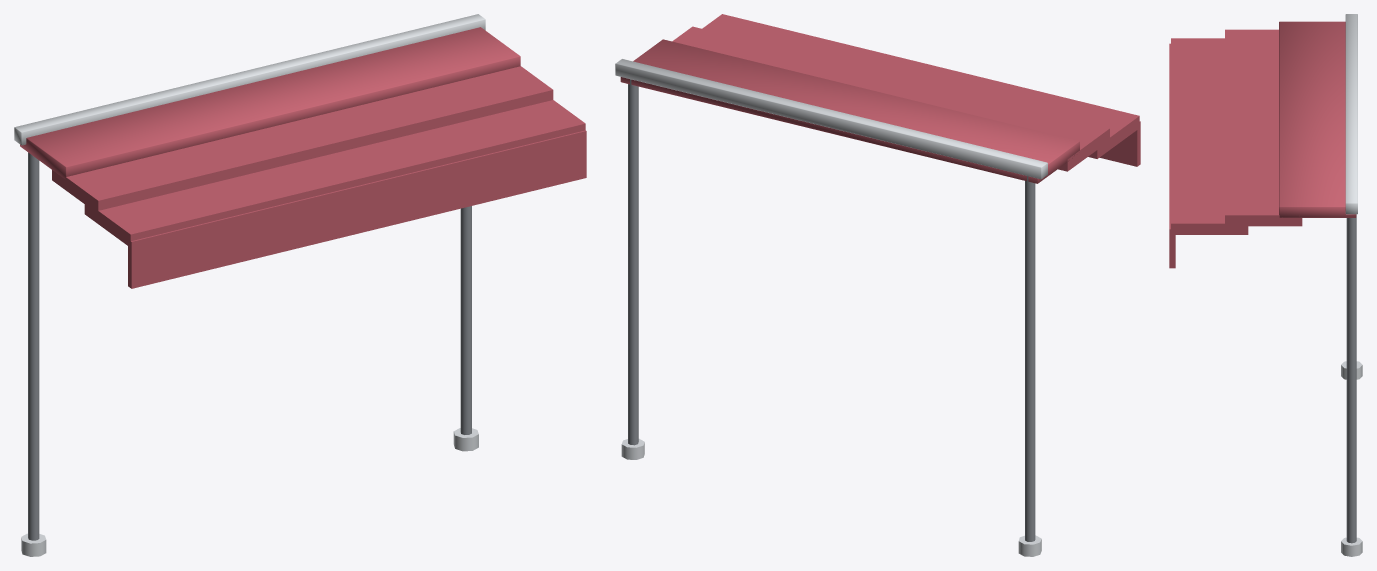
The model's file is Awning_Door.fbx.
3 renders of one model, left to right at view 1: azimuth 30°, elevation 25°; view 2: azimuth 150°, elevation 25°; view 3: azimuth 270°, elevation 25°, orthographic. The views are drawn at different scales.
Parts seen in each view (by area): view 1: LOD0; view 2: LOD0; view 3: LOD0.
Boxes of the visible parts, bbox=[...] form: LOD0: bbox=[14, 14, 586, 556]; LOD0: bbox=[615, 14, 1140, 556]; LOD0: bbox=[1169, 14, 1362, 556].
Size of what is drawn, in the model's own units: 290 by 254 by 125.
